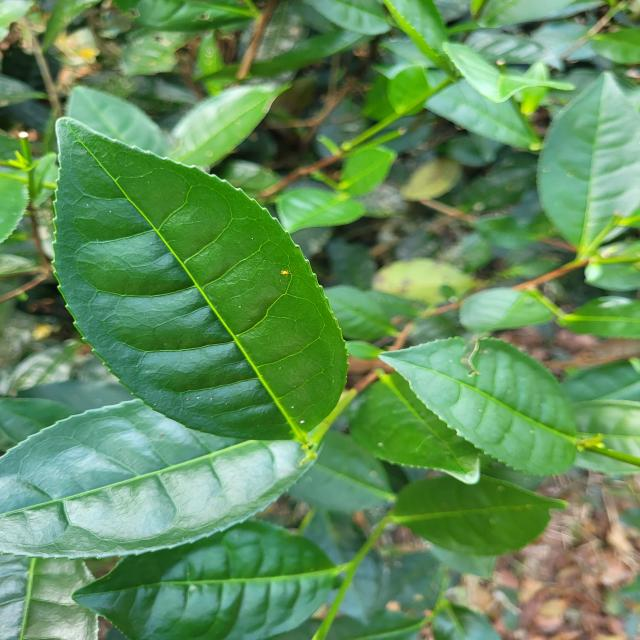Category D(7+ days, Not for Tea): (24, 94, 375, 467)
